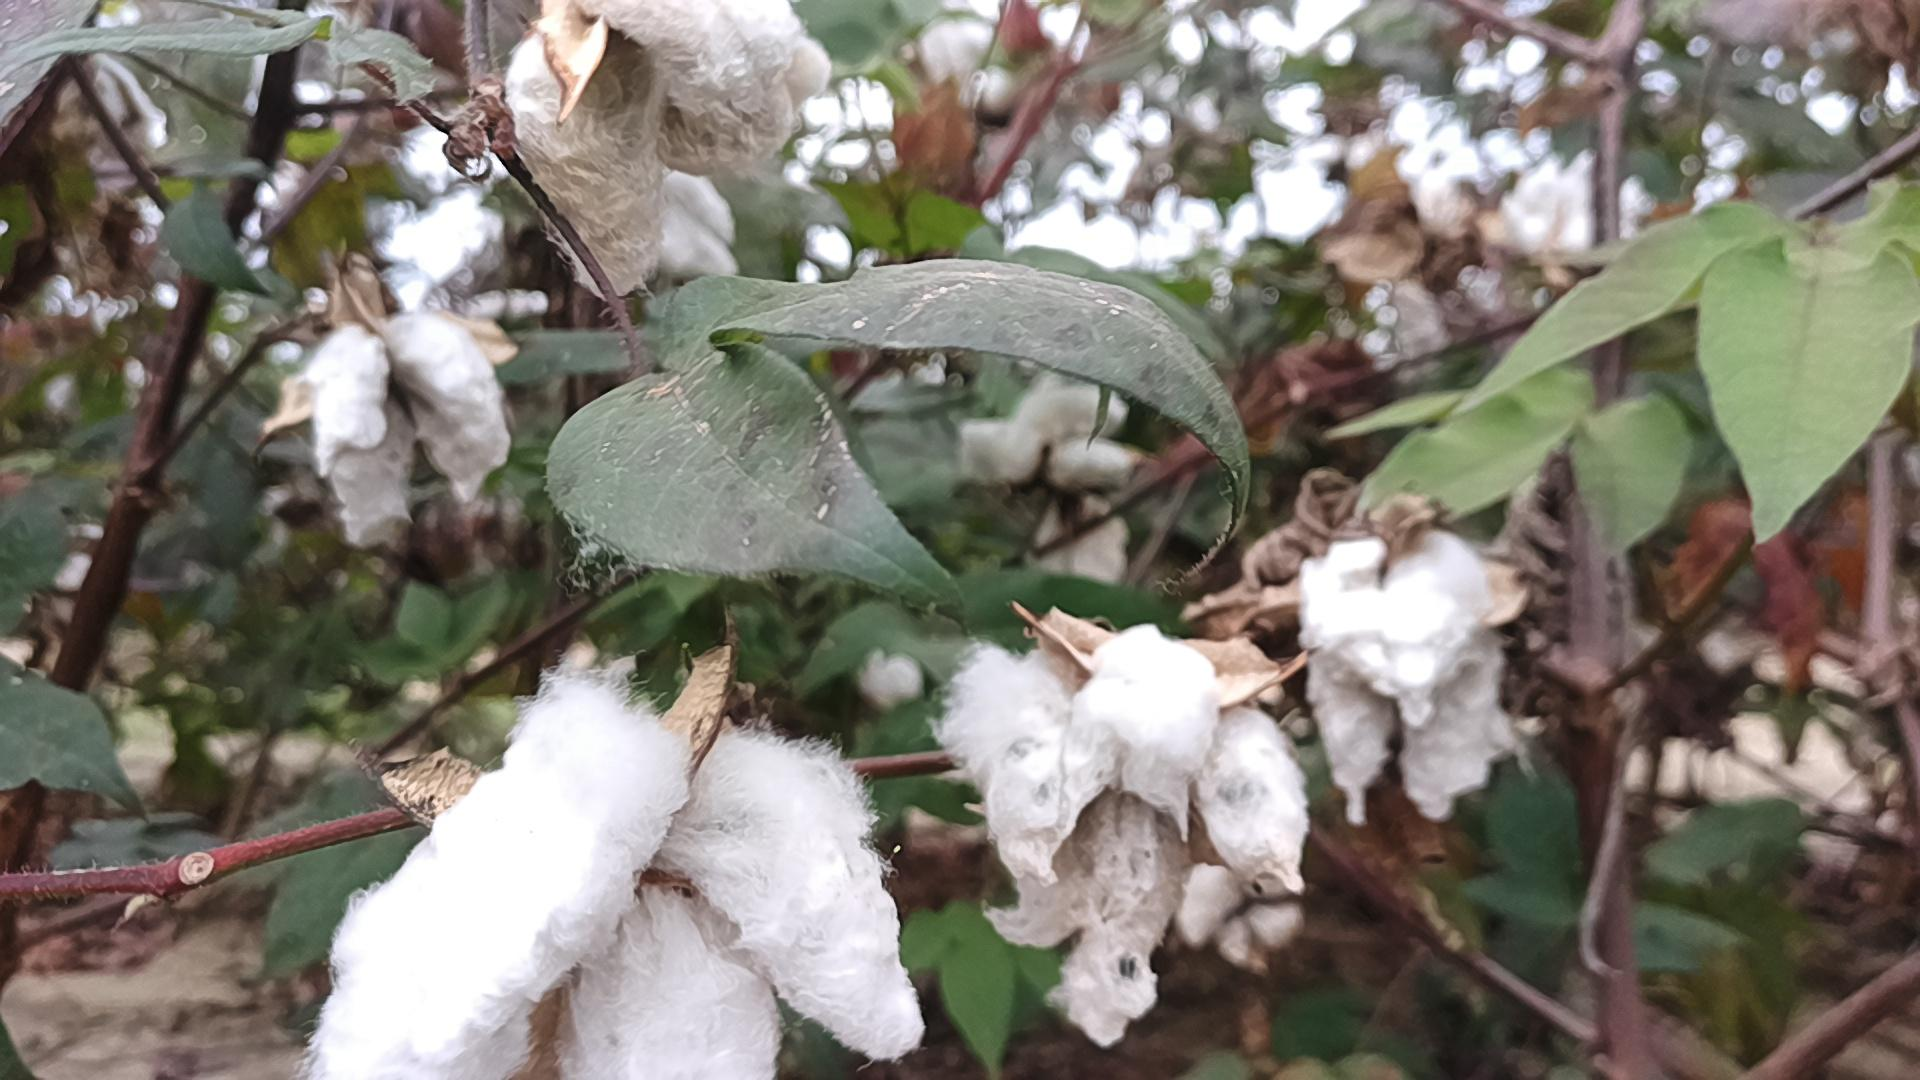cotton_ready: (307, 675, 926, 1080), (953, 622, 1311, 1044), (514, 0, 837, 303), (1300, 533, 1495, 824), (314, 310, 518, 555)
